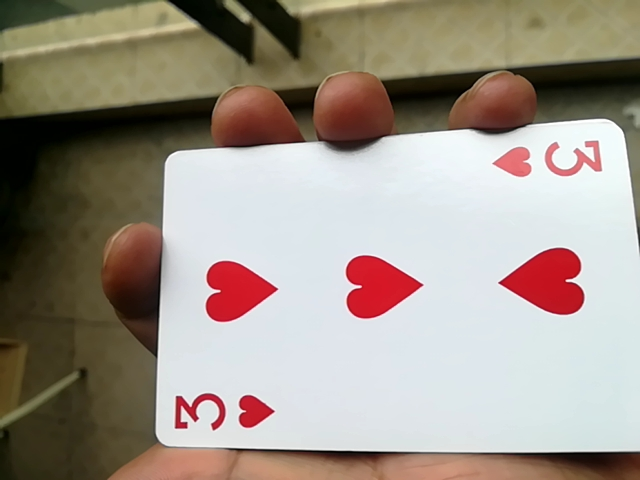hx 3: (137, 124, 632, 471)
